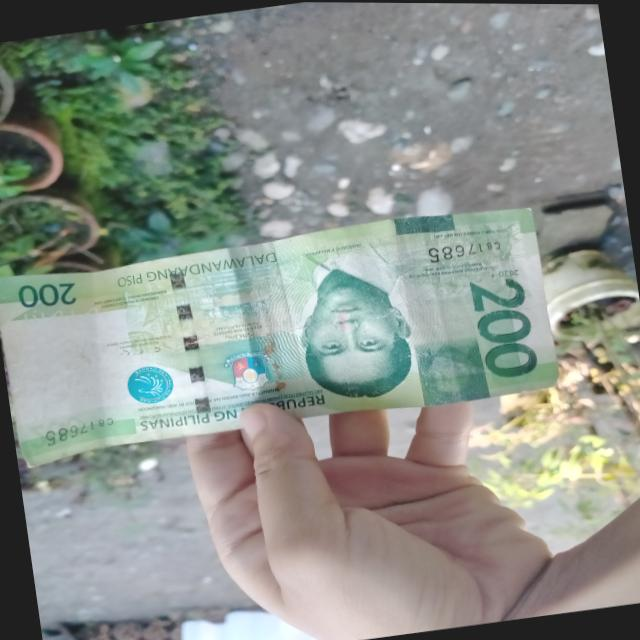concealed_value: (413, 335, 487, 409)
security_thread: (164, 254, 212, 433)
see_through_mark: (18, 293, 114, 333)
serial_number: (414, 230, 508, 268), (36, 412, 119, 449)
value: (458, 266, 546, 392)
watermark: (23, 322, 108, 427)
